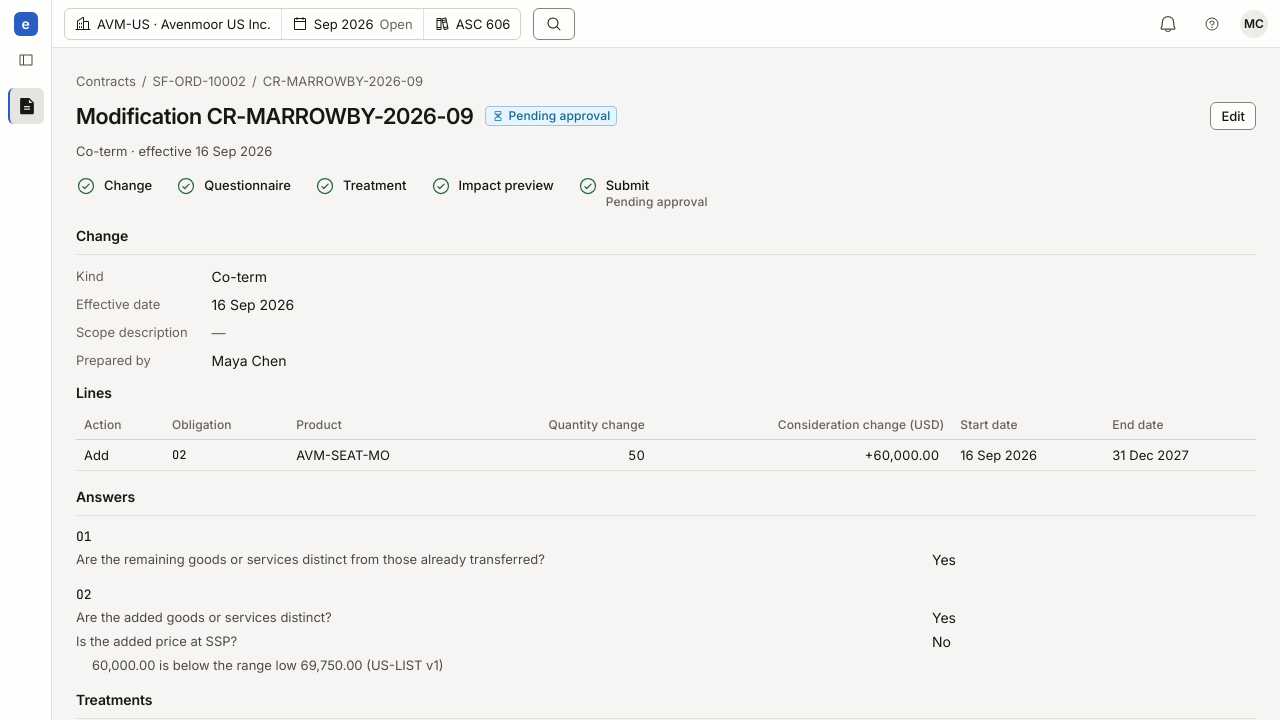
Test case: SF-07:detail › Edit voids the pending request after a confirmation and opens step Change with the notice
The width and height of the screenshot is (1280, 720).
Click the button "Edit": (1233, 116) [1210, 102, 1256, 130]
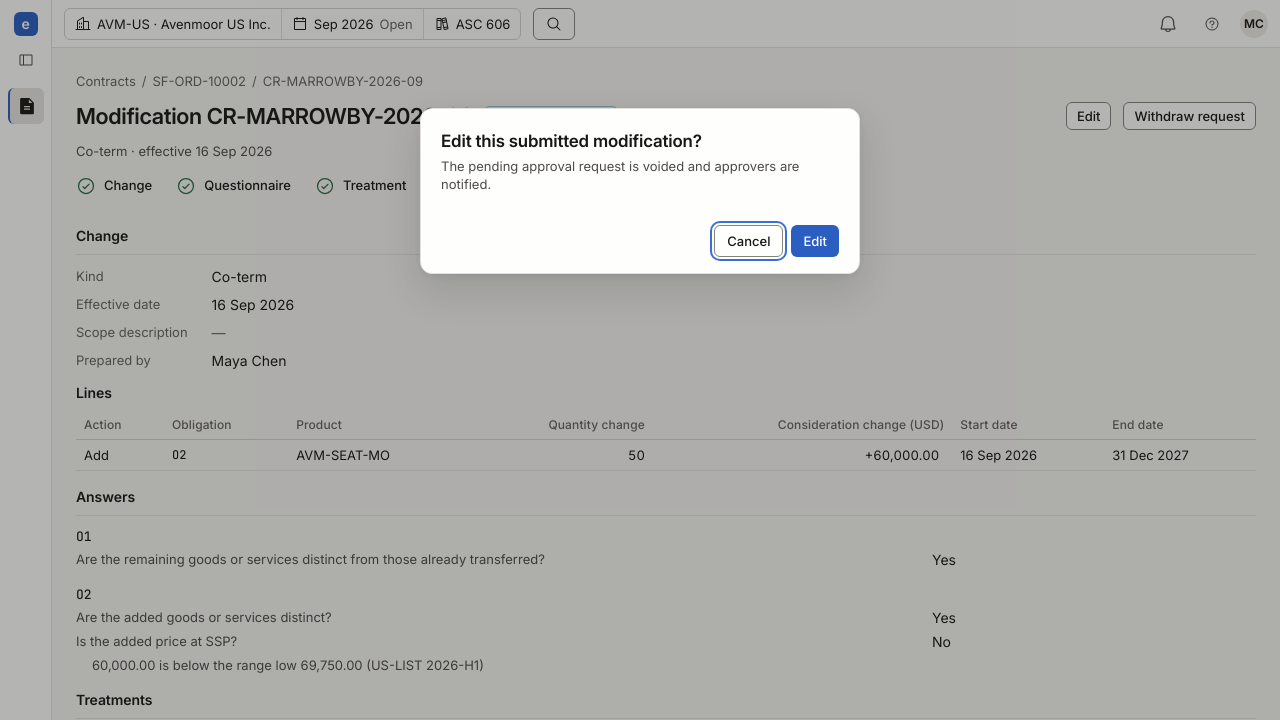
Expected: the text "The pending approval request is voided and approvers are notified." is shown, [441, 157, 839, 193]
Click the button "Edit": (815, 241) [791, 225, 839, 257]
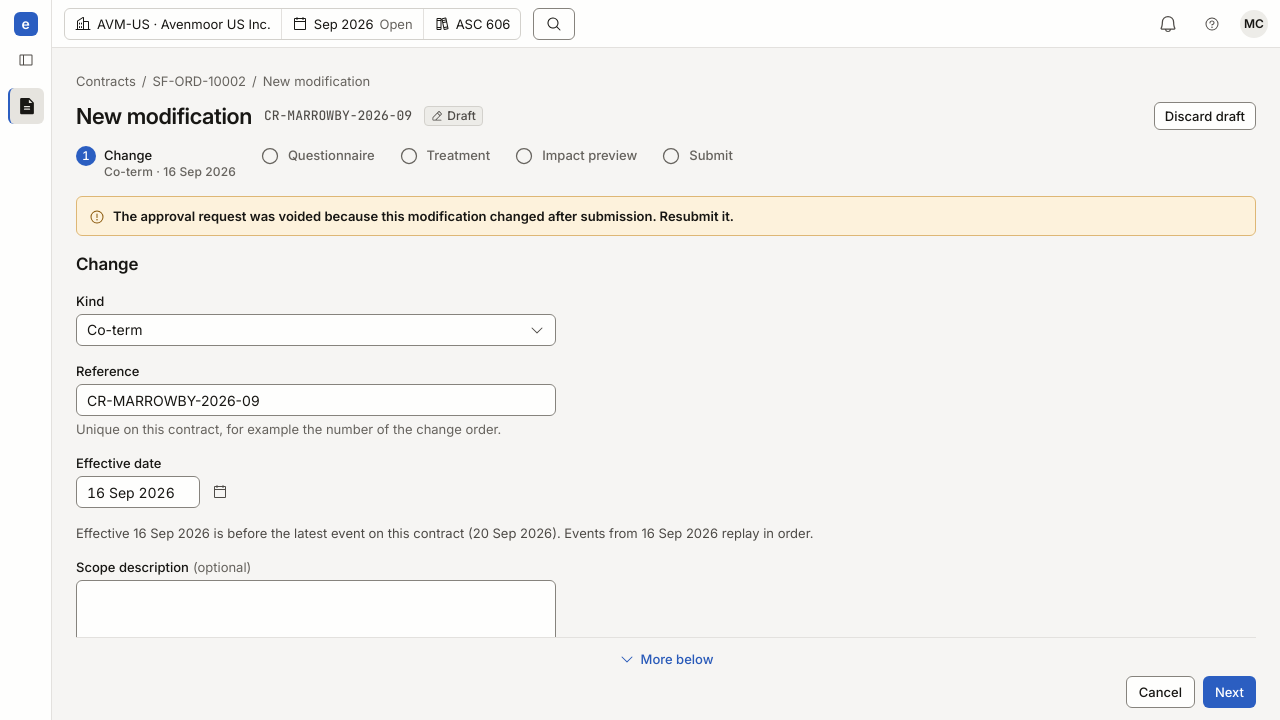
Expected: the element with test id "SF-07-page" is shown
Expected: the text box labelled "Scope description(optional)" is shown, [76, 580, 556, 650]
